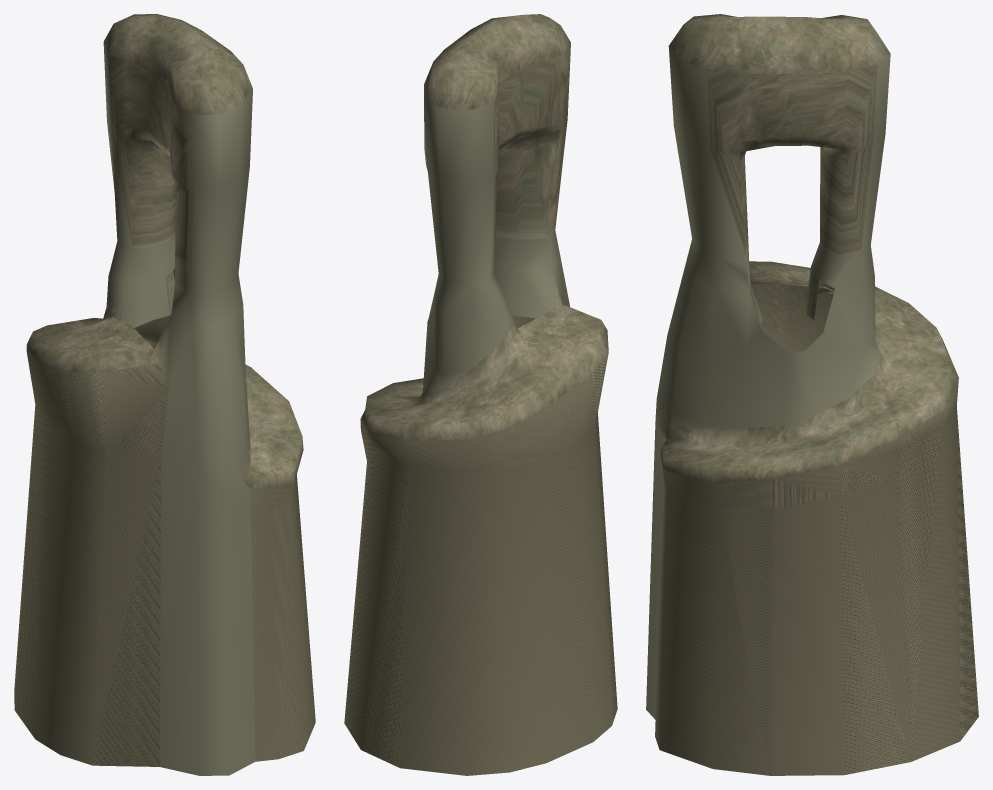
The model's file is OVERHILL_A_01_LINE134.fbx.
3 renders of one model, left to right at view 1: azimuth 30°, elevation 25°; view 2: azimuth 150°, elevation 25°; view 3: azimuth 270°, elevation 25°, orthographic. The views are drawn at different scales.
Visible parts, largest first — view 1: OVERHILL_A_01_LINE134; view 2: OVERHILL_A_01_LINE134; view 3: OVERHILL_A_01_LINE134.
Part boxes in pixels (x1,y1,x2,y2): OVERHILL_A_01_LINE134: [14, 14, 315, 775]; OVERHILL_A_01_LINE134: [344, 14, 617, 775]; OVERHILL_A_01_LINE134: [646, 14, 978, 775].
Size of the model in its own units: 74368 by 203543 by 87026.
1 material, 1 textured.
